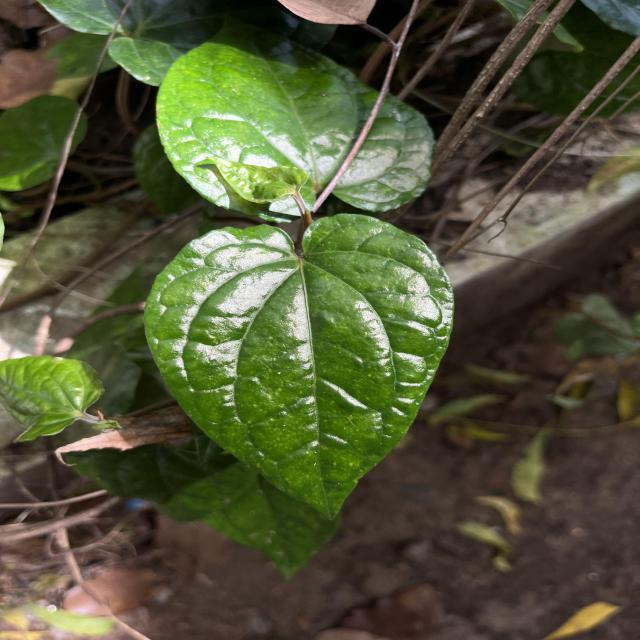Piper betle: (141, 210, 459, 524)
